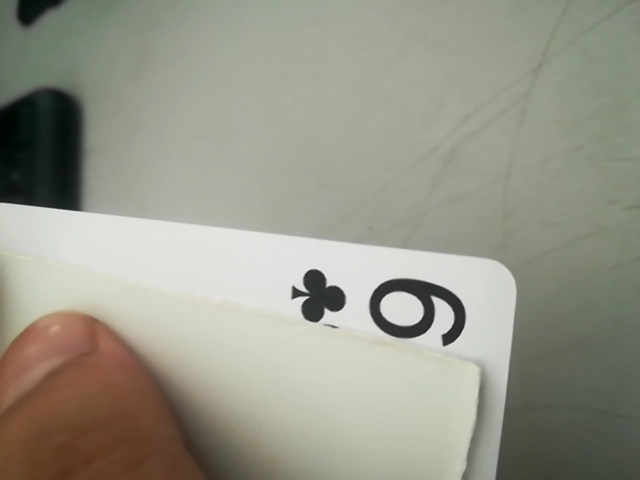mh 6: (265, 250, 495, 372)
